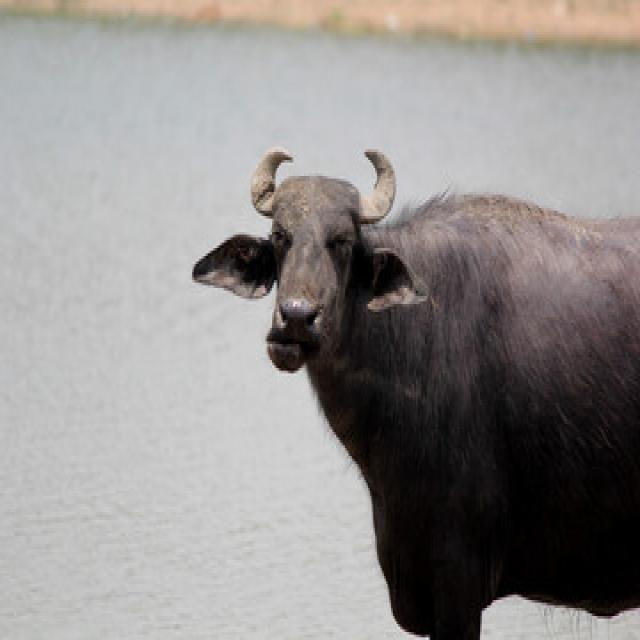Buffalo: (189, 139, 639, 637)
